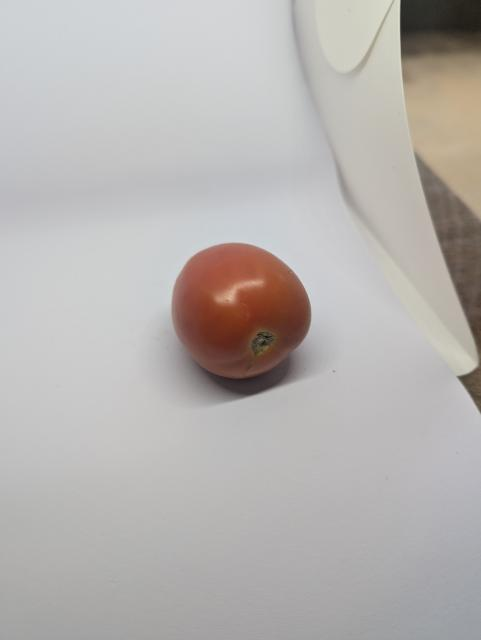red: (165, 231, 316, 396)
